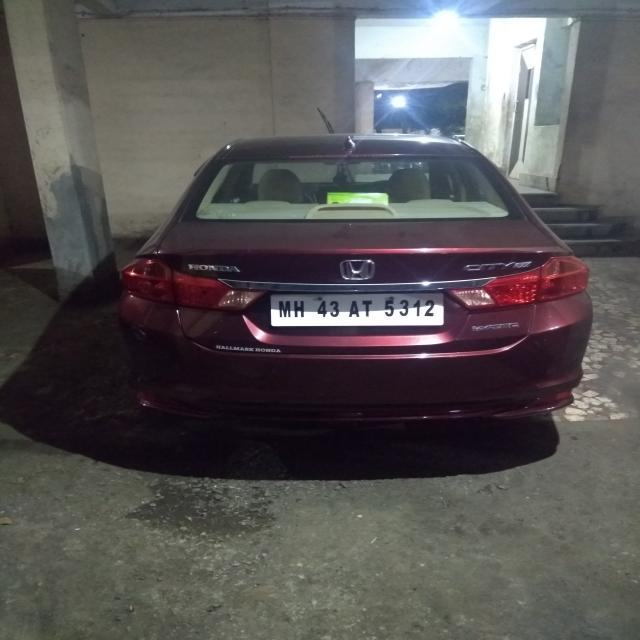Number-Plate: (274, 291, 444, 324)
